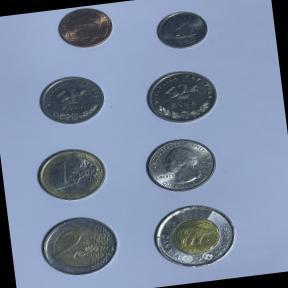coin: (144, 194, 246, 279), (34, 208, 126, 285), (136, 129, 226, 201), (140, 62, 226, 131), (30, 142, 112, 206), (50, 3, 120, 58), (150, 5, 215, 58)
